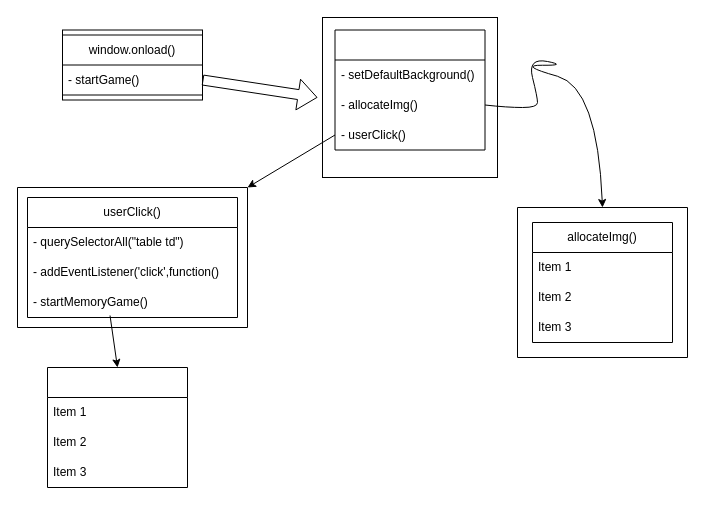
This 705x505 diagram has some shape labels left out. Each missing label, with the box of its shape:
startGane(): (334, 29, 485, 150)
startMemoryGame(): (46, 366, 188, 488)
